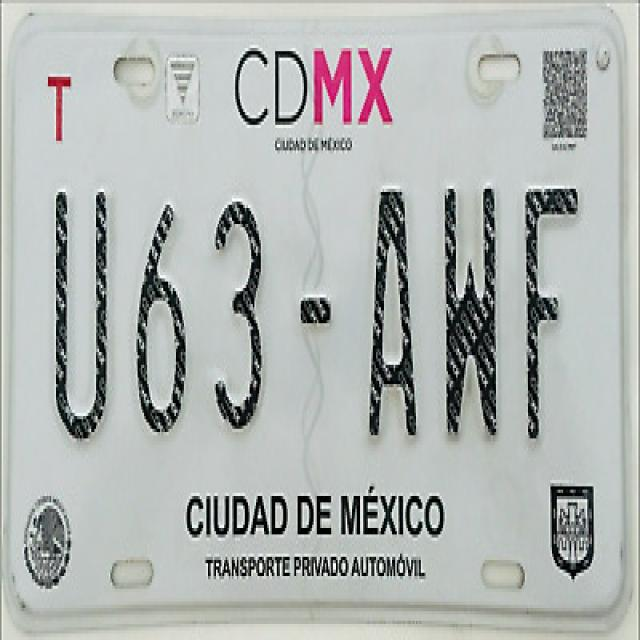placa: (17, 171, 614, 458)
